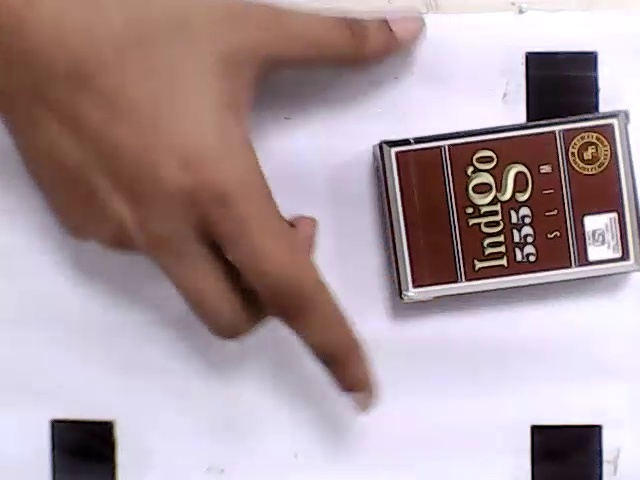BEX: (394, 119, 633, 292)
